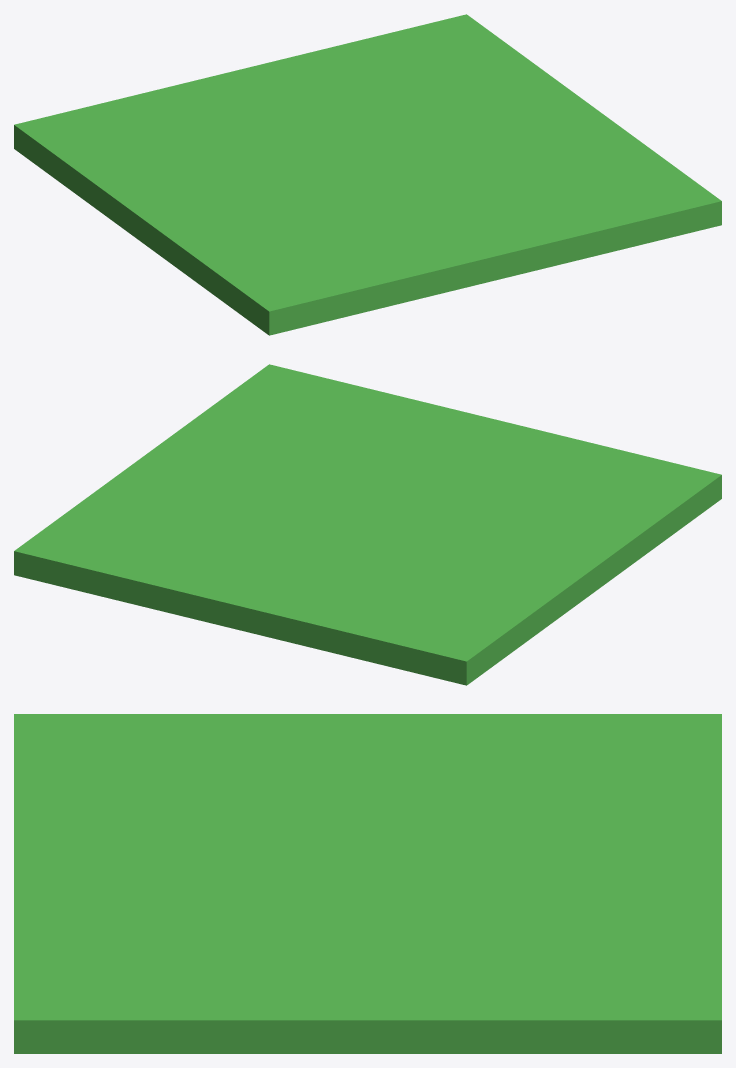
File: zeminkenarsizkisa.fbx
The picture shows the model from 3 angles, top to bottom: view 1: azimuth 30°, elevation 25°; view 2: azimuth 150°, elevation 25°; view 3: azimuth 270°, elevation 25°; orthographic projection. The views are drawn at different scales.
Visible parts, largest first — view 1: Cube.010; view 2: Cube.010; view 3: Cube.010.
Part boxes in pixels (x1,y1,x2,y2): Cube.010: (14, 14, 721, 335); Cube.010: (14, 364, 721, 685); Cube.010: (14, 714, 721, 1053).
Bounding box in the file's own units: 2284 × 116 × 2231.
